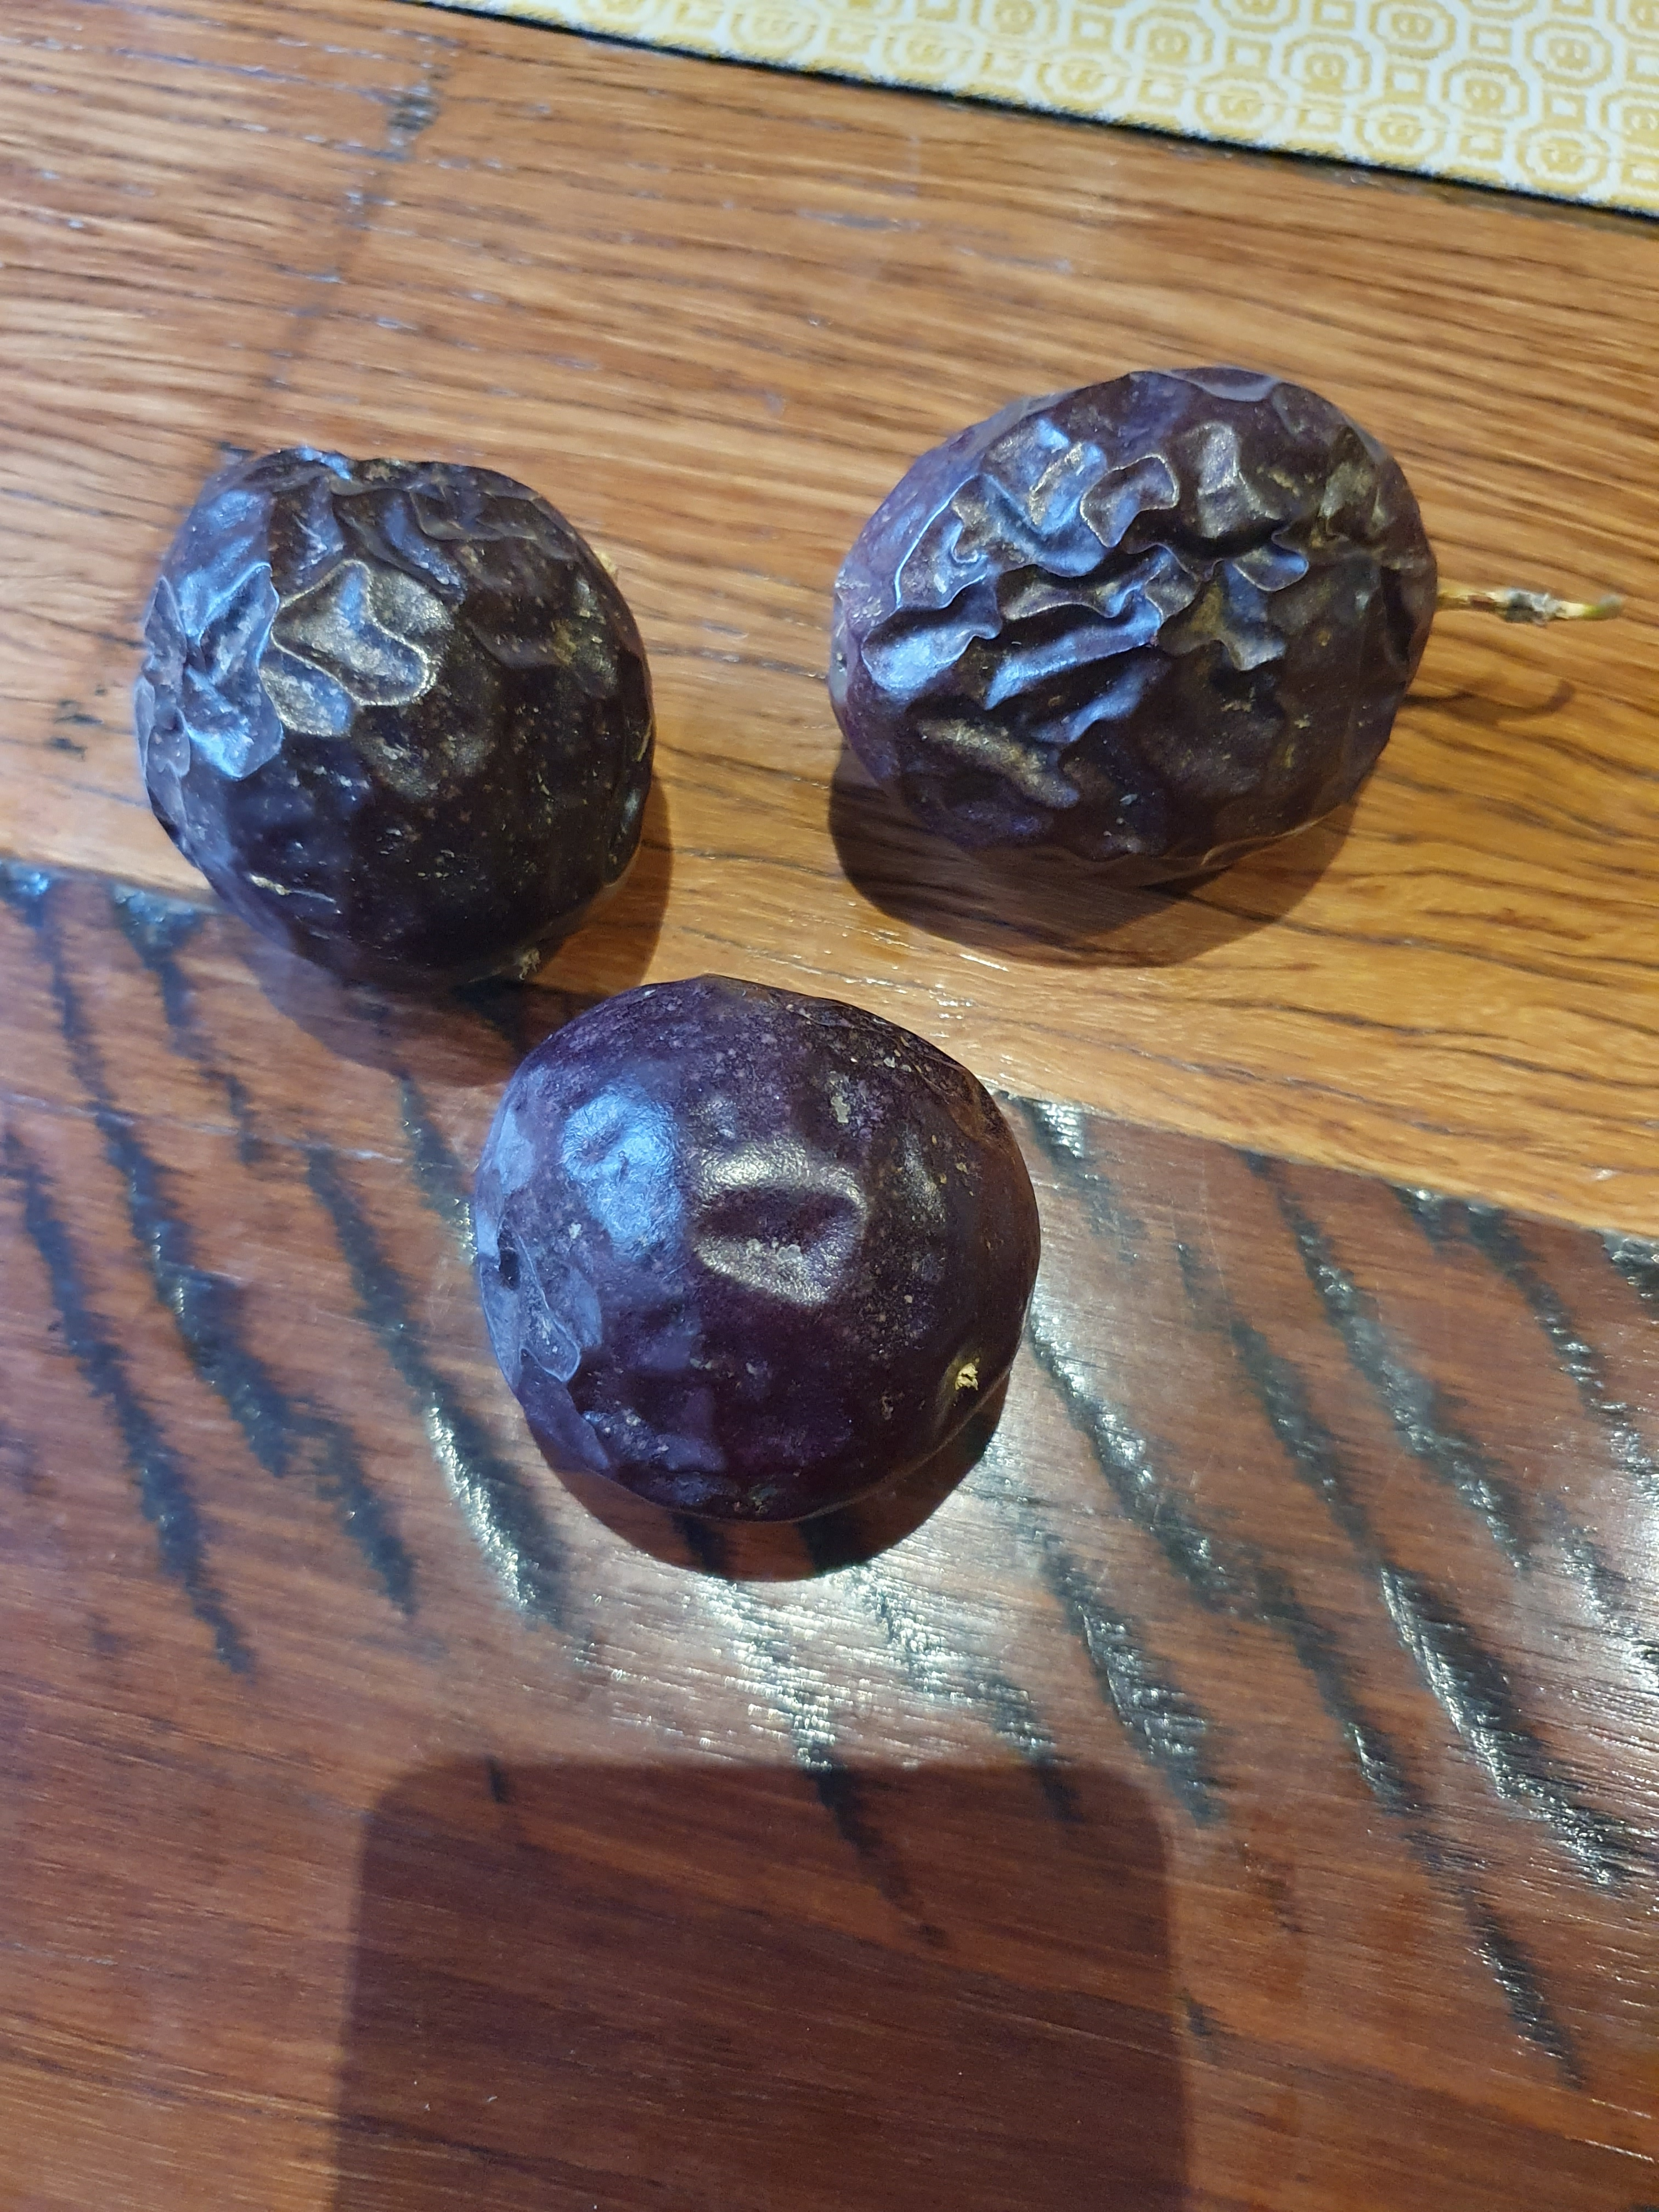passionfruit: (791, 314, 1622, 892), (474, 972, 1035, 1531), (108, 423, 666, 970)
